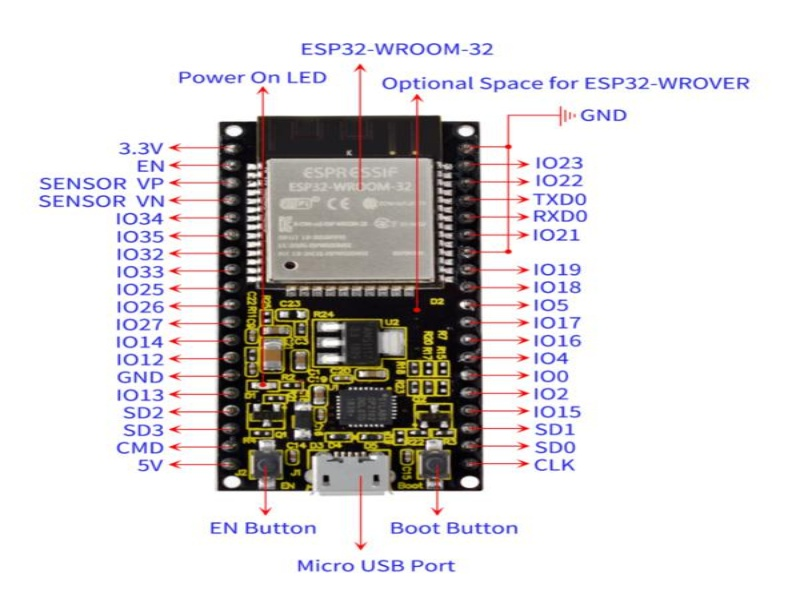esp32: (209, 111, 494, 513)
